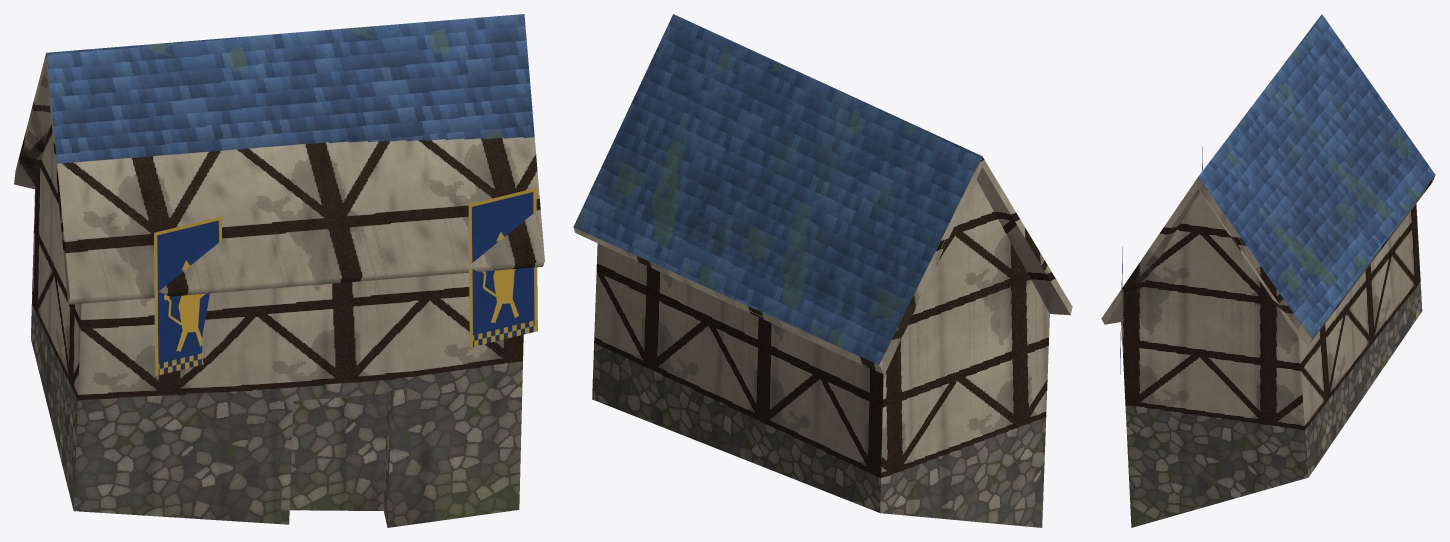
Rendered from house_11_card.glb.
3 views of the same model, side by side, from view 1: azimuth 30°, elevation 25°; view 2: azimuth 150°, elevation 25°; view 3: azimuth 270°, elevation 25° (orthographic). The views are drawn at different scales.
Parts seen in each view (by area): view 1: house_11_game_card; view 2: house_11_game_card; view 3: house_11_game_card.
Boxes of the visible parts, box(x1,y1,x2,y2) form: house_11_game_card: box(14, 14, 544, 527); house_11_game_card: box(573, 14, 1072, 527); house_11_game_card: box(1101, 14, 1435, 527).
Size of the model in its own units: 9.74 by 9.01 by 7.32.
1 material, 1 textured.
